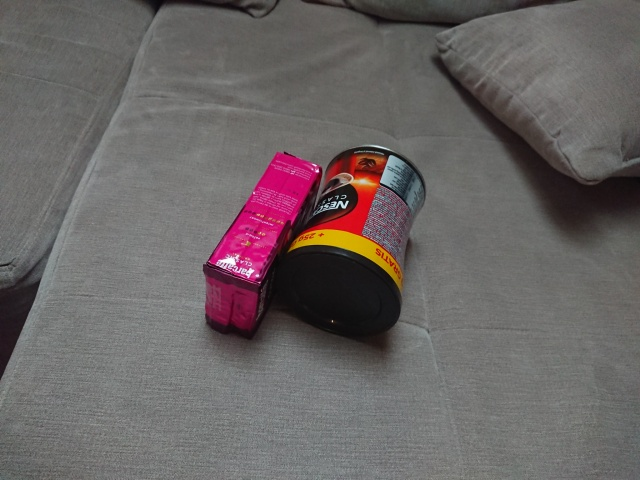Barcaffe Classic Original 225g: (200, 148, 325, 343)
Nescafe Classic 225g: (274, 142, 429, 345)
